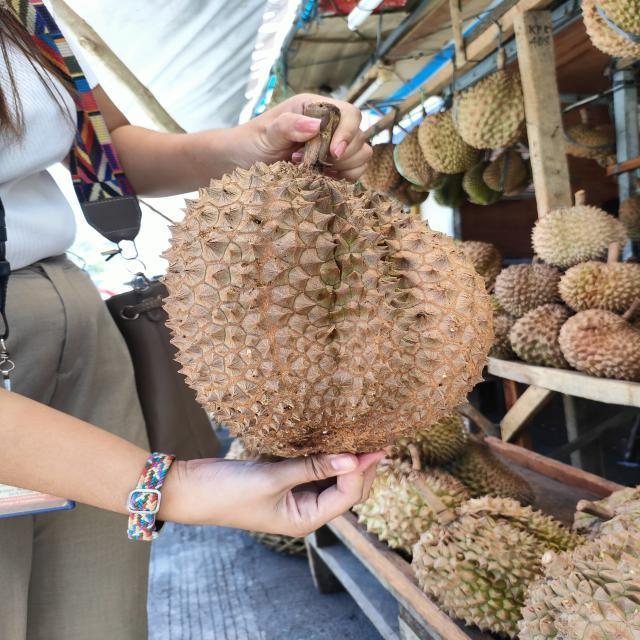mature: (157, 159, 499, 458)
